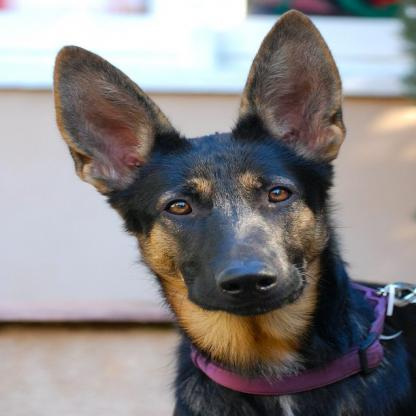dog: (49, 12, 416, 416)
